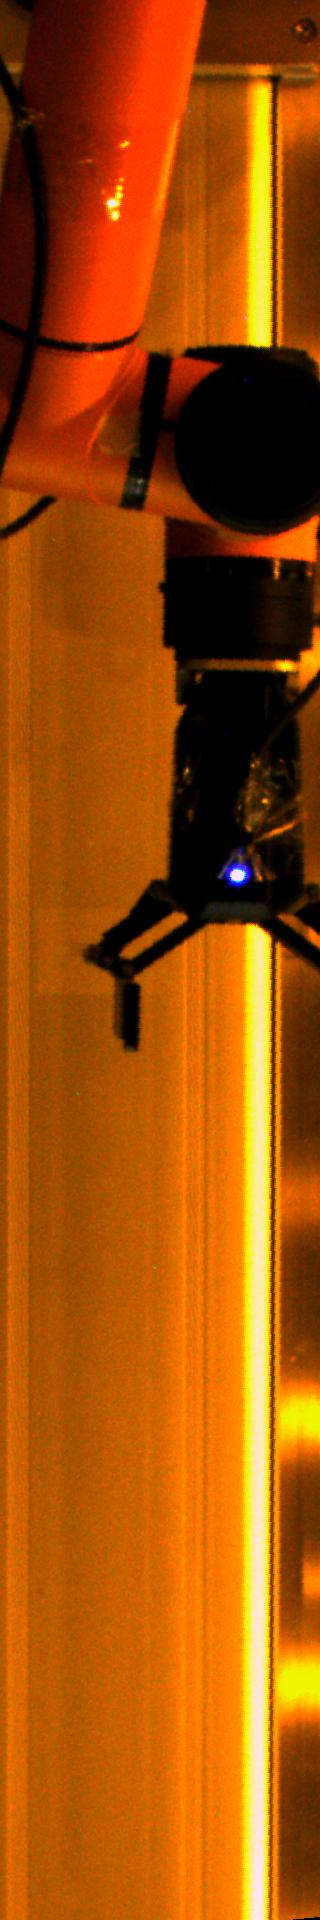keyPoint_1: (223, 860, 253, 889)
